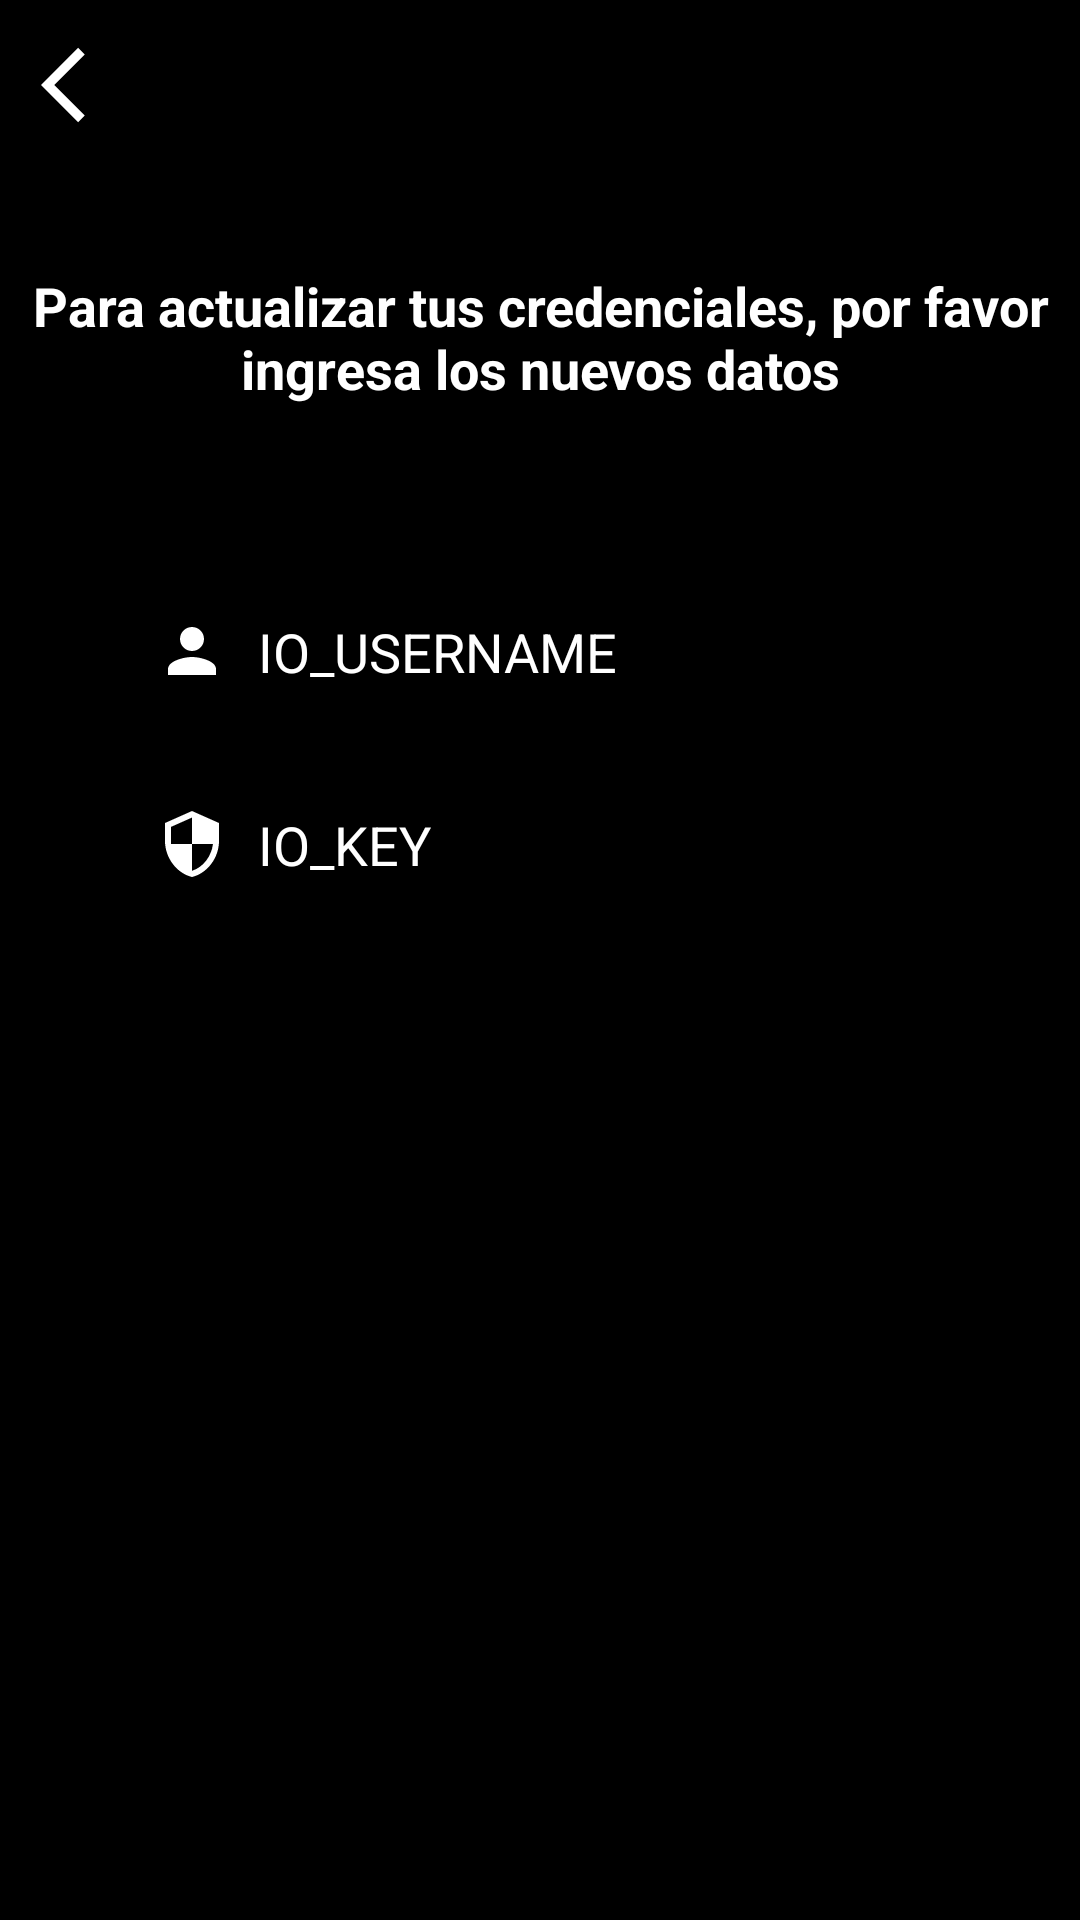

Icons on this 1080x1920 Android screen, each with its box as rect(x1, y1, x2, y2):
arrow back: rect(41, 48, 85, 122)
